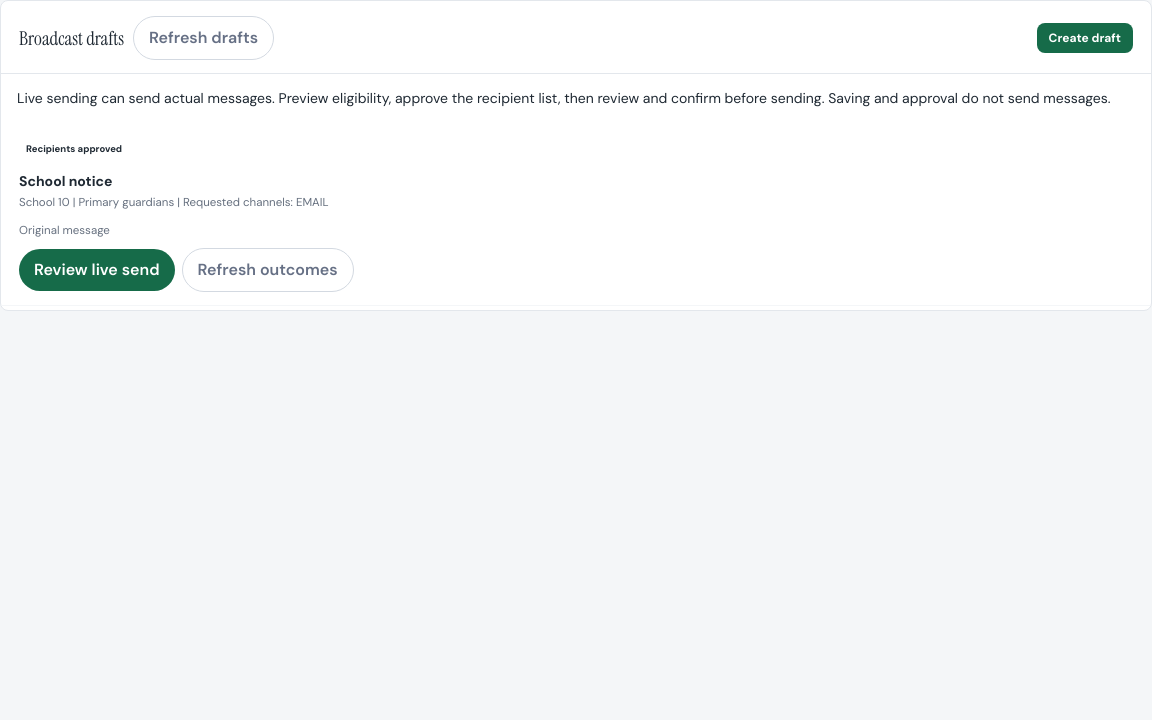
Test case: Live broadcast confirmation and reconciliation › reviews scoped capabilities and requires explicit consent before posting the exact live fingerprint once
Click the button "Review live send".
click(97, 270)  # box [19,249,175,291]
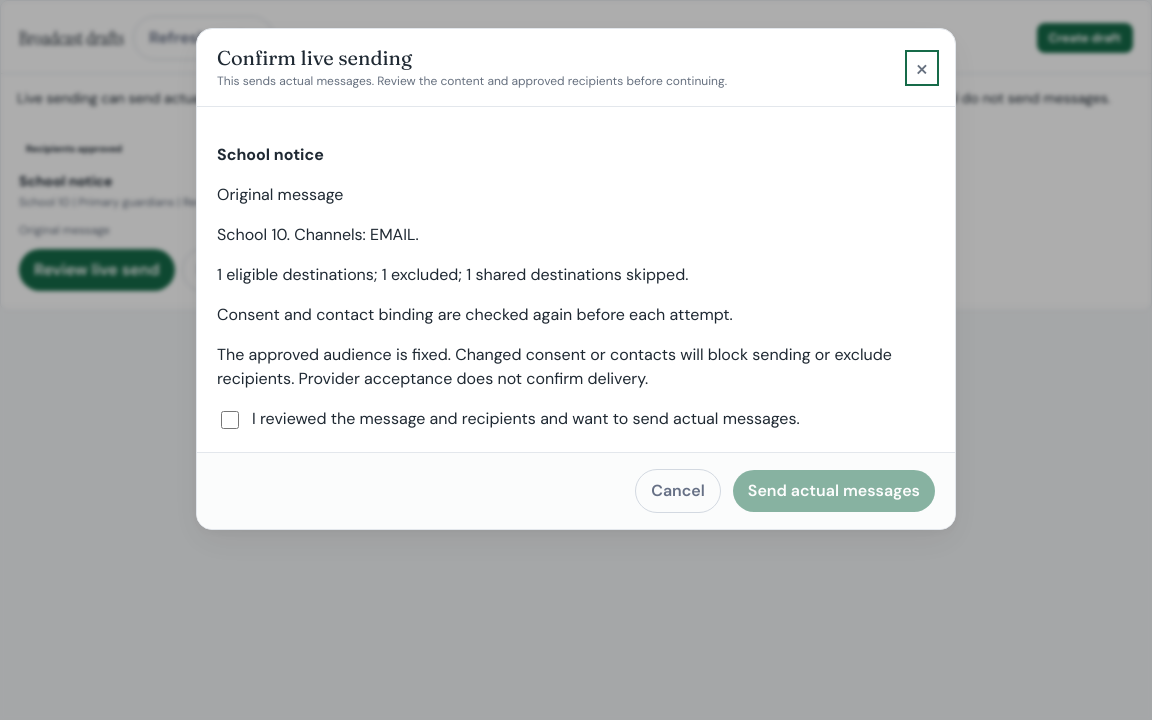
Check: the text "Original message" is shown, box [217,184,343,205]
Check: the text "School 10. Channels: EMAIL." is shown, box [217,224,419,245]
Check: the text "1 eligible destinations; 1 excluded; 1 shared destinations skipped." is shown, box [217,264,688,285]
Click the checkbox labelled "I reviewed the message and recipients".
click(230, 420)  # box [221,411,239,429]
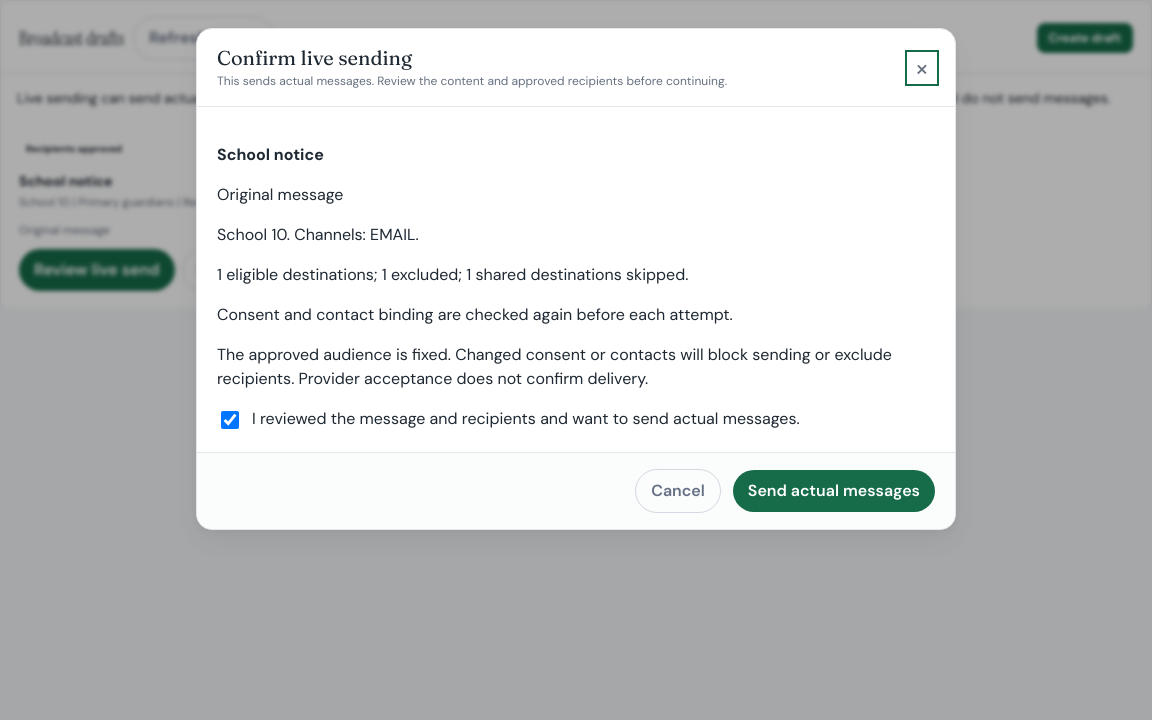
Click the button "Send actual messages".
click(834, 491)  # box [733,470,935,512]
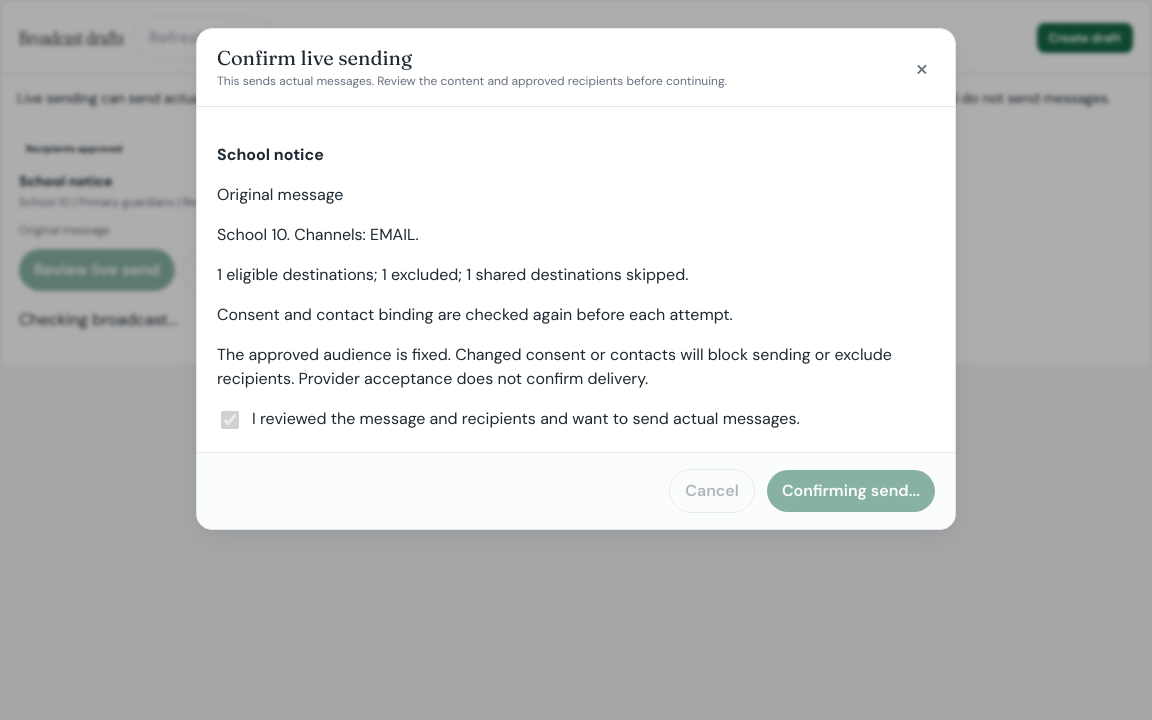
Click the button named "Send actual messages".
click(851, 491)  # box [767,470,935,512]
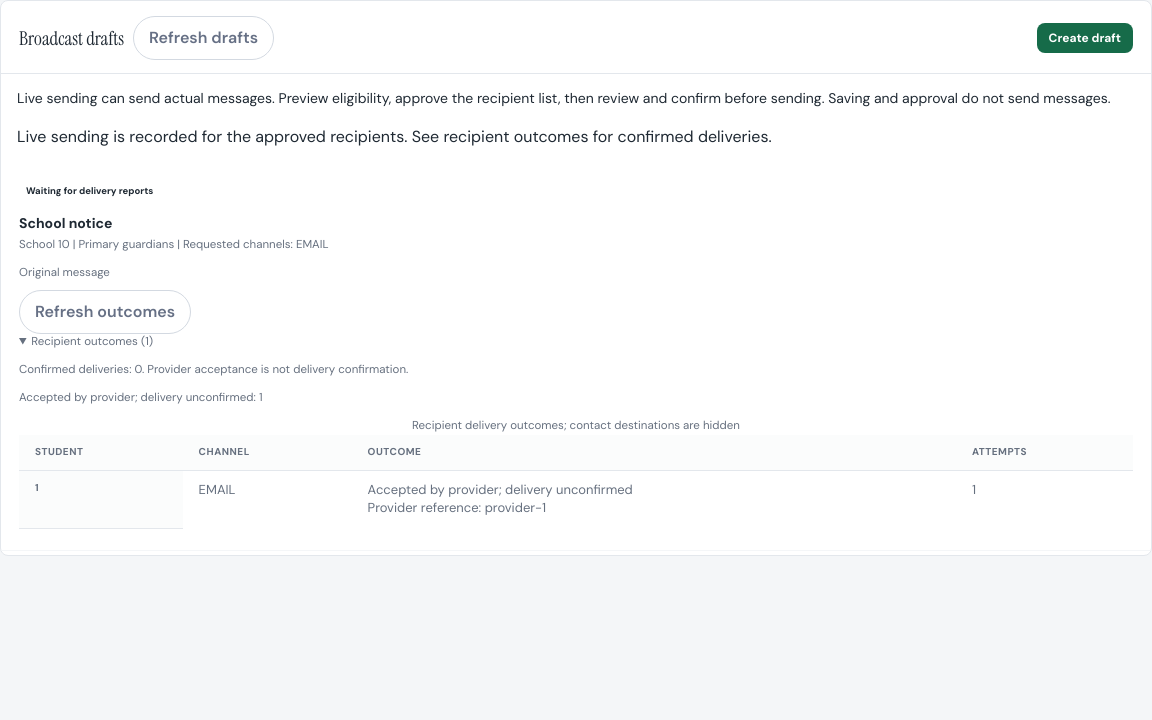
Check: the text "Waiting for delivery reports" is shown, box [19,182,160,200]
Check: the text "Confirmed deliveries: 0. Provider acceptance is not delivery confirmation." is shown, box [19,362,408,377]
Check: the cell "Accepted by provider; delivery unconfirmed" is shown, box [352,470,956,528]
